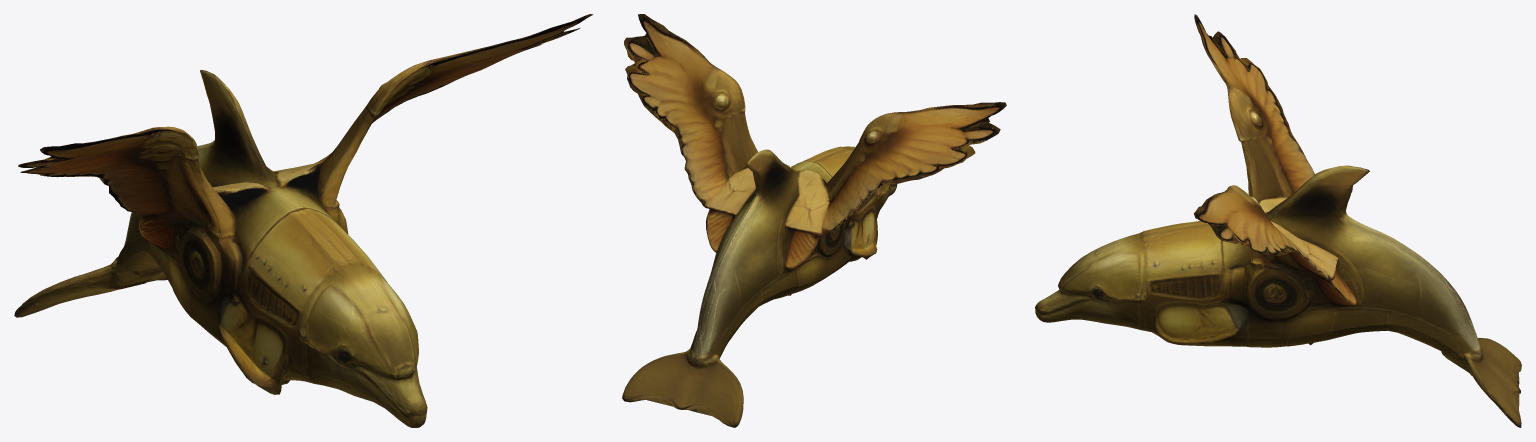
3 renders of one model, left to right at view 1: azimuth 30°, elevation 25°; view 2: azimuth 150°, elevation 25°; view 3: azimuth 270°, elevation 25°, orthographic. The views are drawn at different scales.
Parts seen in each view (by area): view 1: world; view 2: world; view 3: world.
Boxes of the visible parts, x1,y1,x2,y2 form: world: (14, 14, 593, 427); world: (622, 14, 1006, 427); world: (1035, 14, 1521, 427).
Bounding box in the file's own units: 0.9989 × 0.6382 × 0.994.
1 material, 1 textured.
